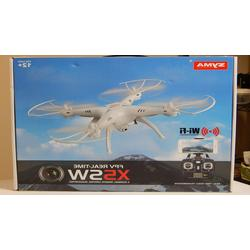drone: (28, 78, 218, 155)
